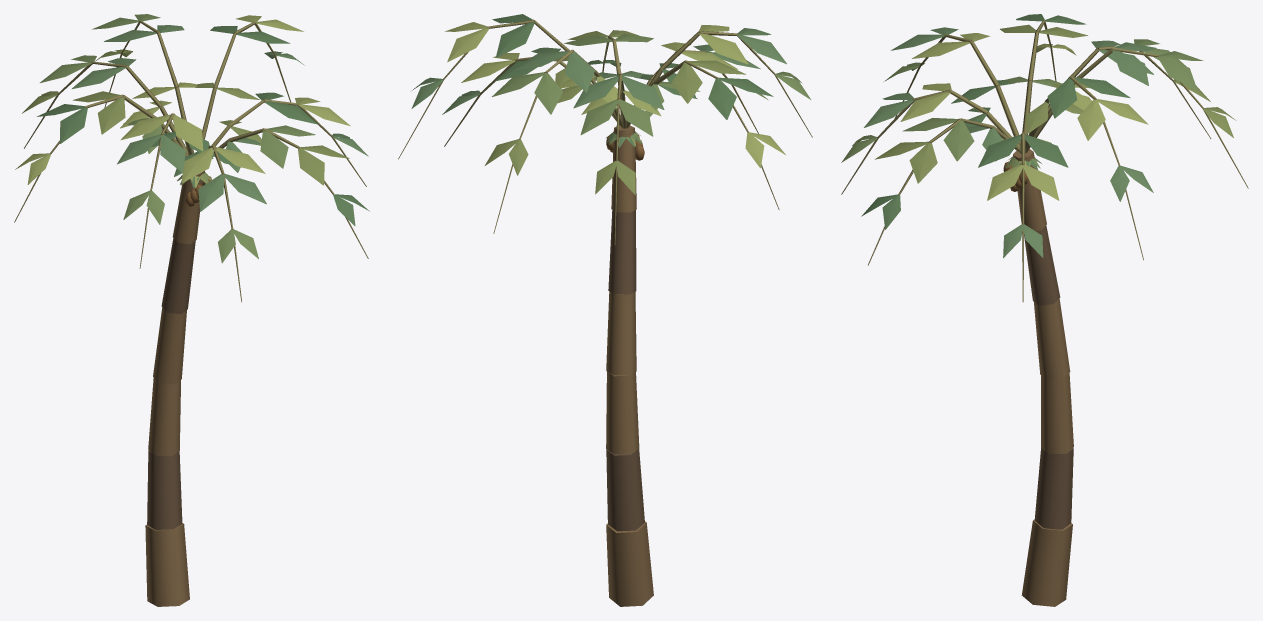
Rendered from date-palm-far.glb.
The picture shows the model from 3 angles, left to right: view 1: azimuth 30°, elevation 25°; view 2: azimuth 150°, elevation 25°; view 3: azimuth 270°, elevation 25°; orthographic projection. The views are drawn at different scales.
Parts seen in each view (by area): view 1: Trunk_Wood, Crown_Foliage; view 2: Trunk_Wood, Crown_Foliage; view 3: Trunk_Wood, Crown_Foliage.
Part boxes in pixels (left/top/right/bottom): Trunk_Wood: left=14, top=20, right=368, bottom=606; Crown_Foliage: left=15, top=14, right=369, bottom=263; Trunk_Wood: left=398, top=19, right=812, bottom=606; Crown_Foliage: left=411, top=14, right=810, bottom=195; Trunk_Wood: left=841, top=20, right=1248, bottom=606; Crown_Foliage: left=841, top=14, right=1236, bottom=257.
Bounding box in the file's own units: 6.47 × 9.96 × 6.52.
